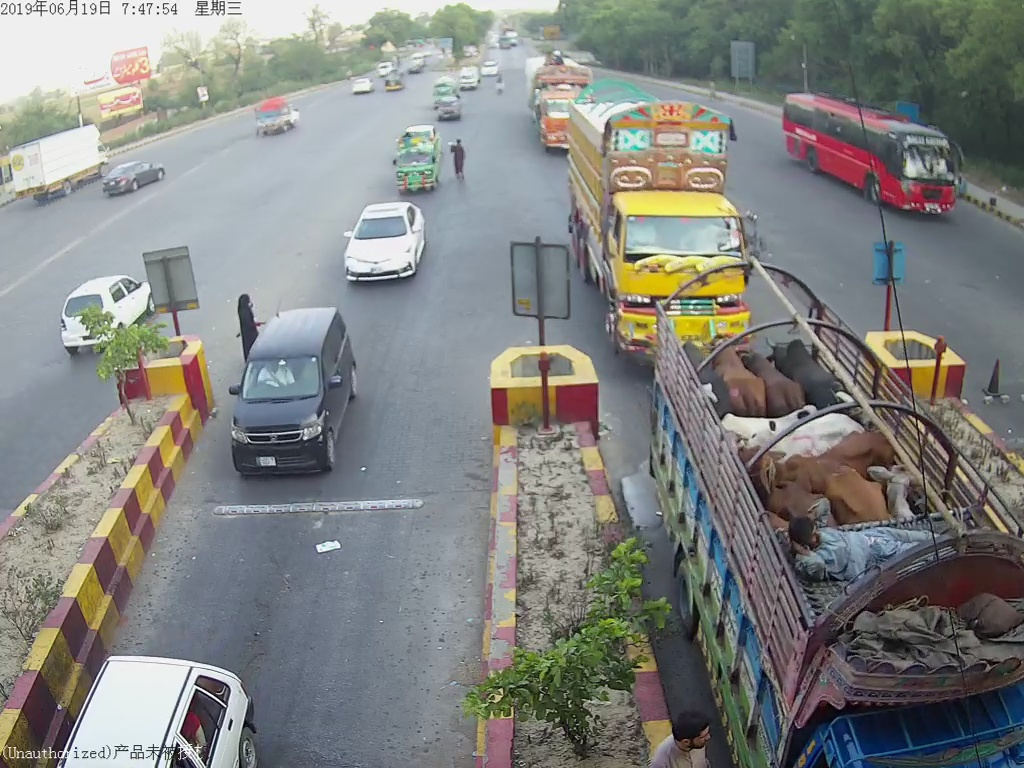Cat-1: (231, 309, 362, 476), (336, 195, 430, 284), (387, 122, 446, 196)
Cat-3: (776, 82, 965, 222)
Cat-4: (567, 83, 753, 360)
Cat-5: (523, 49, 590, 151)
